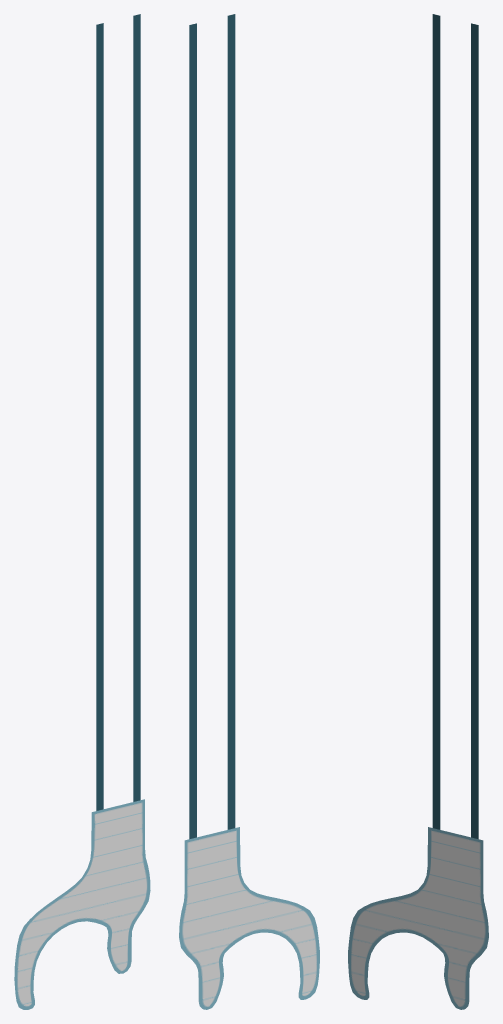
Rendered from grasping_hand.glb.
3 views of the same model, side by side, from view 1: azimuth 30°, elevation 25°; view 2: azimuth 210°, elevation 25°; view 3: azimuth 330°, elevation 25° (orthographic). The views are drawn at different scales.
Visible parts, largest first — view 1: Cube.001; view 2: Cube.001; view 3: Cube.001.
Part boxes in pixels (x1,y1,x2,y2): Cube.001: (14, 14, 150, 1009); Cube.001: (179, 14, 319, 1009); Cube.001: (348, 14, 488, 1009).
Size of the model in its own units: 5.27 by 35.9 by 0.00284.
1 material, 1 textured.
